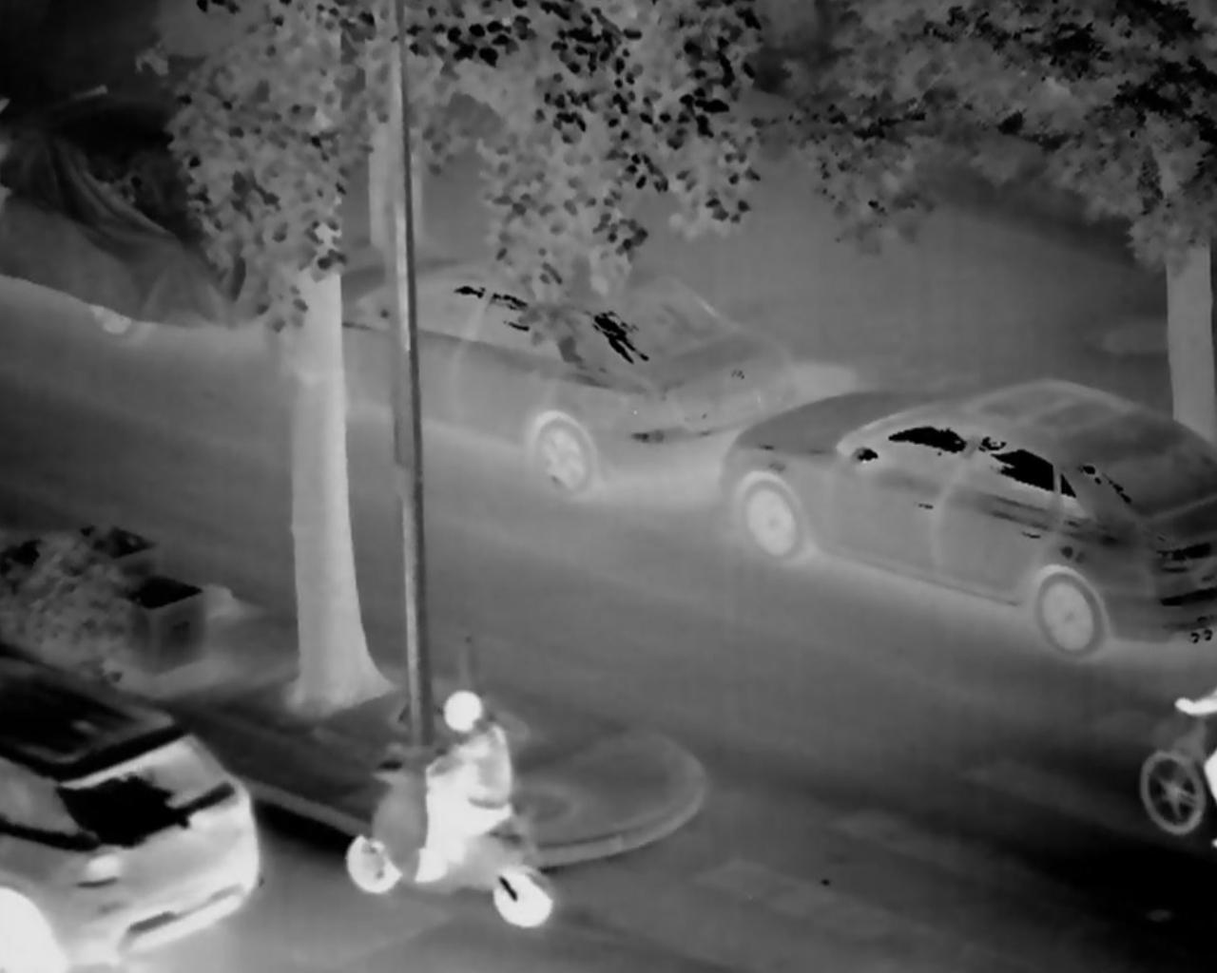person: (398, 688, 542, 882), (1175, 672, 1217, 846)
